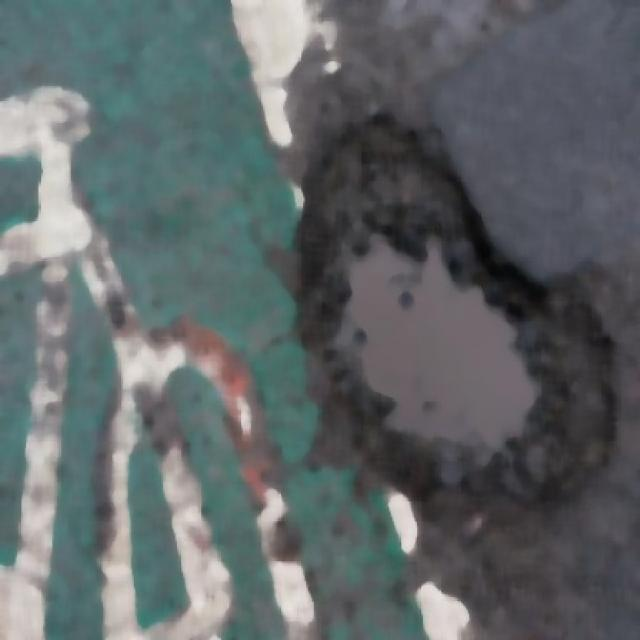Pothole: (318, 98, 552, 496)
